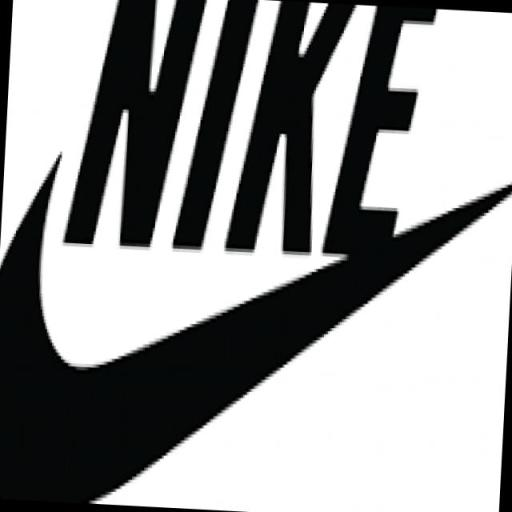Nike: (0, 184, 482, 512), (63, 0, 446, 265)
